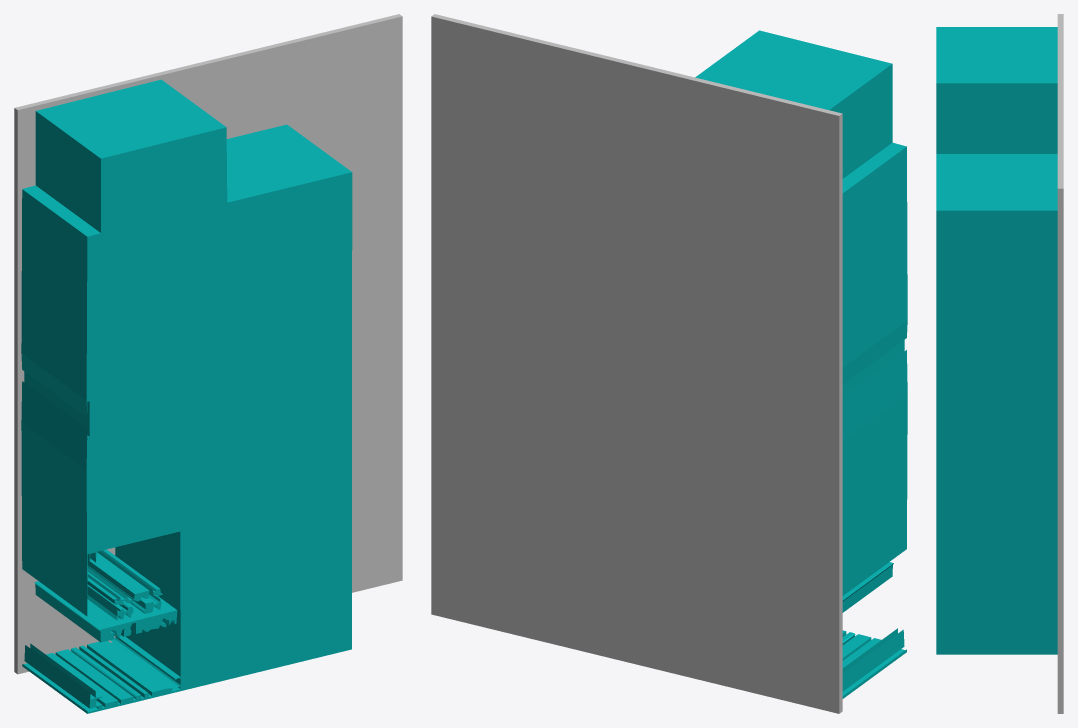
3 views of the same model, side by side, from view 1: azimuth 30°, elevation 25°; view 2: azimuth 150°, elevation 25°; view 3: azimuth 270°, elevation 25° (orthographic). The views are drawn at different scales.
Parts seen in each view (by area): view 1: world; view 2: world; view 3: world.
Boxes of the visible parts, x1,y1,x2,y2 form: world: (14, 14, 402, 713); world: (431, 14, 907, 713); world: (936, 14, 1063, 713).
Bounding box in the file's own units: 10.23 × 14.33 × 3.15.
